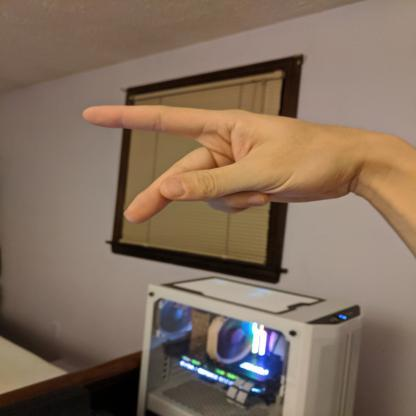P: (80, 101, 366, 229)
